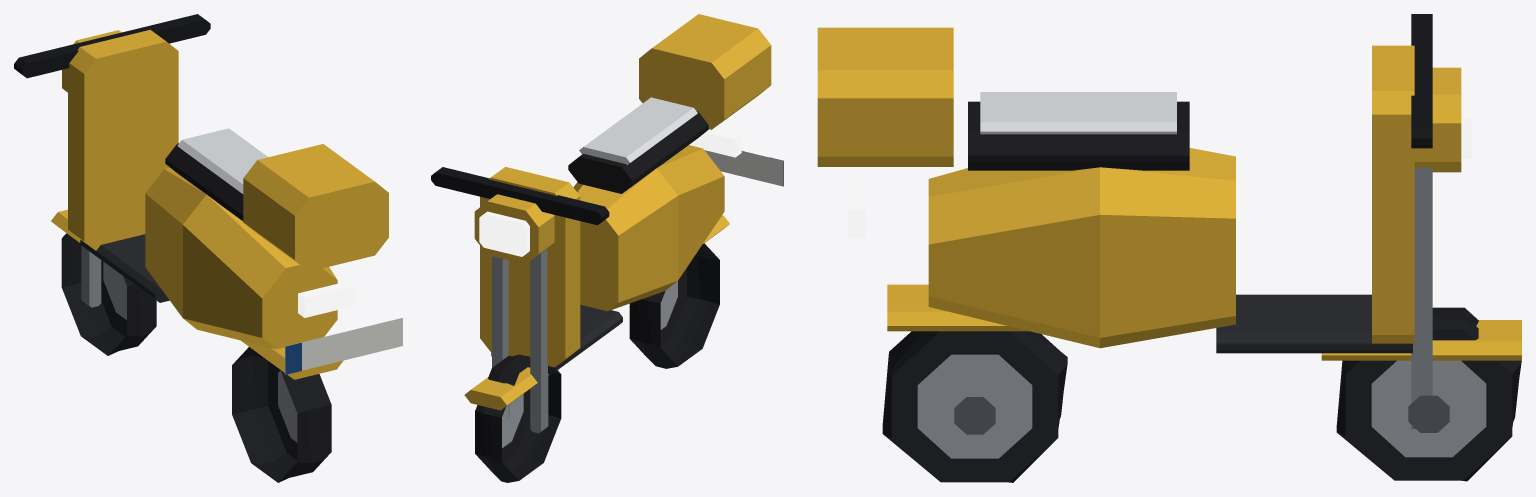
The model's file is moped_lo.glb.
3 renders of one model, left to right at view 1: azimuth 30°, elevation 25°; view 2: azimuth 150°, elevation 25°; view 3: azimuth 270°, elevation 25°, orthographic. The views are drawn at different scales.
Visible parts, largest first — view 1: body.013, wheel_R.001, wheel_F.001, fork.001; view 2: body.013, fork.001, wheel_R.001, wheel_F.001; view 3: body.013, wheel_R.001, wheel_F.001, fork.001.
Part boxes in pixels (x1,y1,x2,y2): body.013: [68, 29, 402, 379]; wheel_R.001: [232, 347, 331, 482]; wheel_F.001: [61, 233, 156, 355]; fork.001: [14, 14, 210, 307]; body.013: [480, 14, 783, 374]; fork.001: [431, 167, 609, 433]; wheel_R.001: [629, 243, 719, 368]; wheel_F.001: [475, 354, 561, 482]; body.013: [817, 27, 1414, 353]; wheel_R.001: [882, 331, 1067, 482]; wheel_F.001: [1336, 307, 1521, 481]; fork.001: [1321, 14, 1521, 428].
Size of the model in its own units: 0.8 by 1.33 by 1.99.
